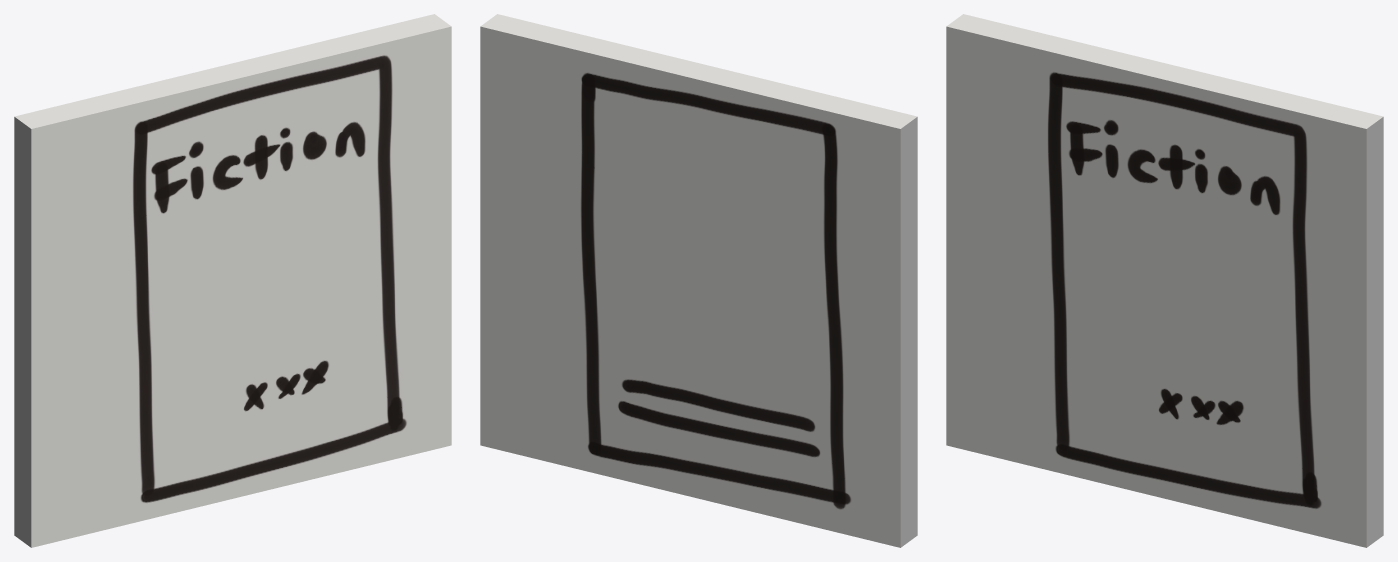
Rendered from fiction1.4.dae.
The picture shows the model from 3 angles, left to right: view 1: azimuth 30°, elevation 25°; view 2: azimuth 150°, elevation 25°; view 3: azimuth 330°, elevation 25°; orthographic projection.
Parts seen in each view (by area): view 1: 立方体; view 2: 立方体; view 3: 立方体.
Part boxes in pixels (bbox=[...]): 立方体: bbox=[14, 14, 451, 547]; 立方体: bbox=[480, 14, 917, 547]; 立方体: bbox=[946, 14, 1383, 547].
Bounding box in the file's own units: 2.1 × 2.03 × 0.148.
